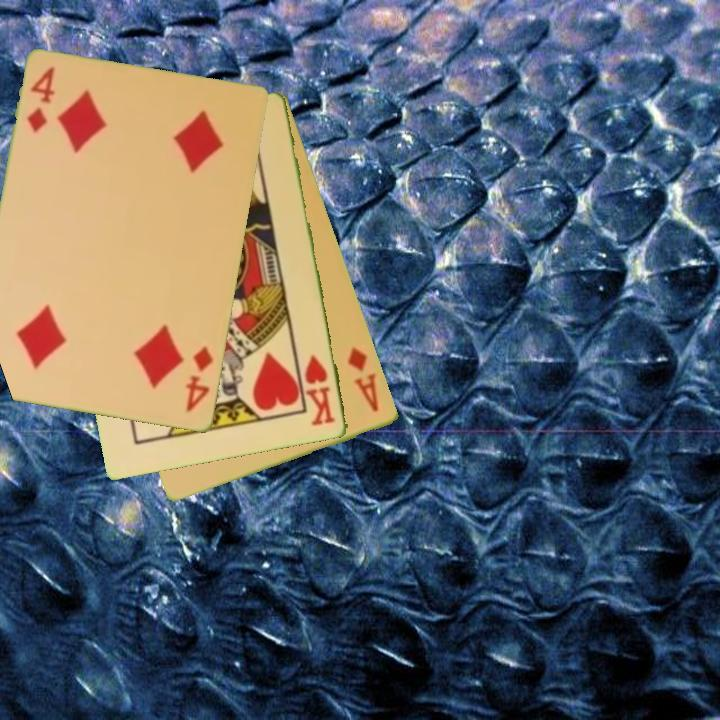4d: (23, 63, 58, 136), (182, 343, 217, 415)
Ad: (344, 344, 382, 415)
Kh: (301, 351, 339, 429)
